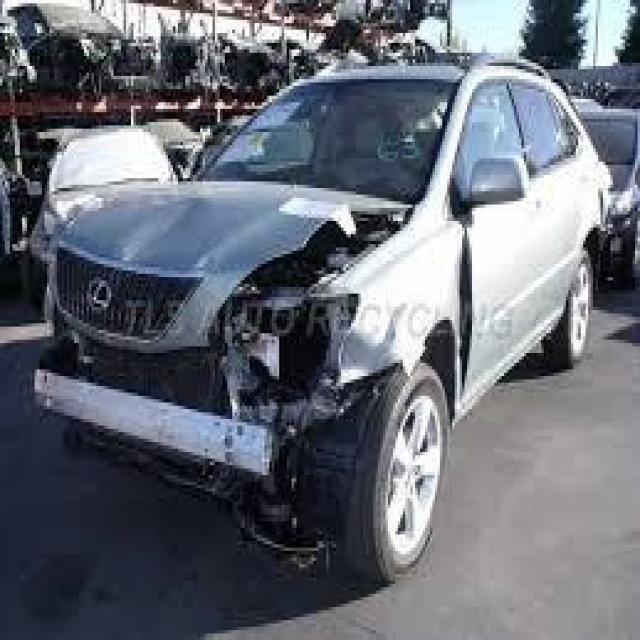damaged: (210, 198, 418, 571)
